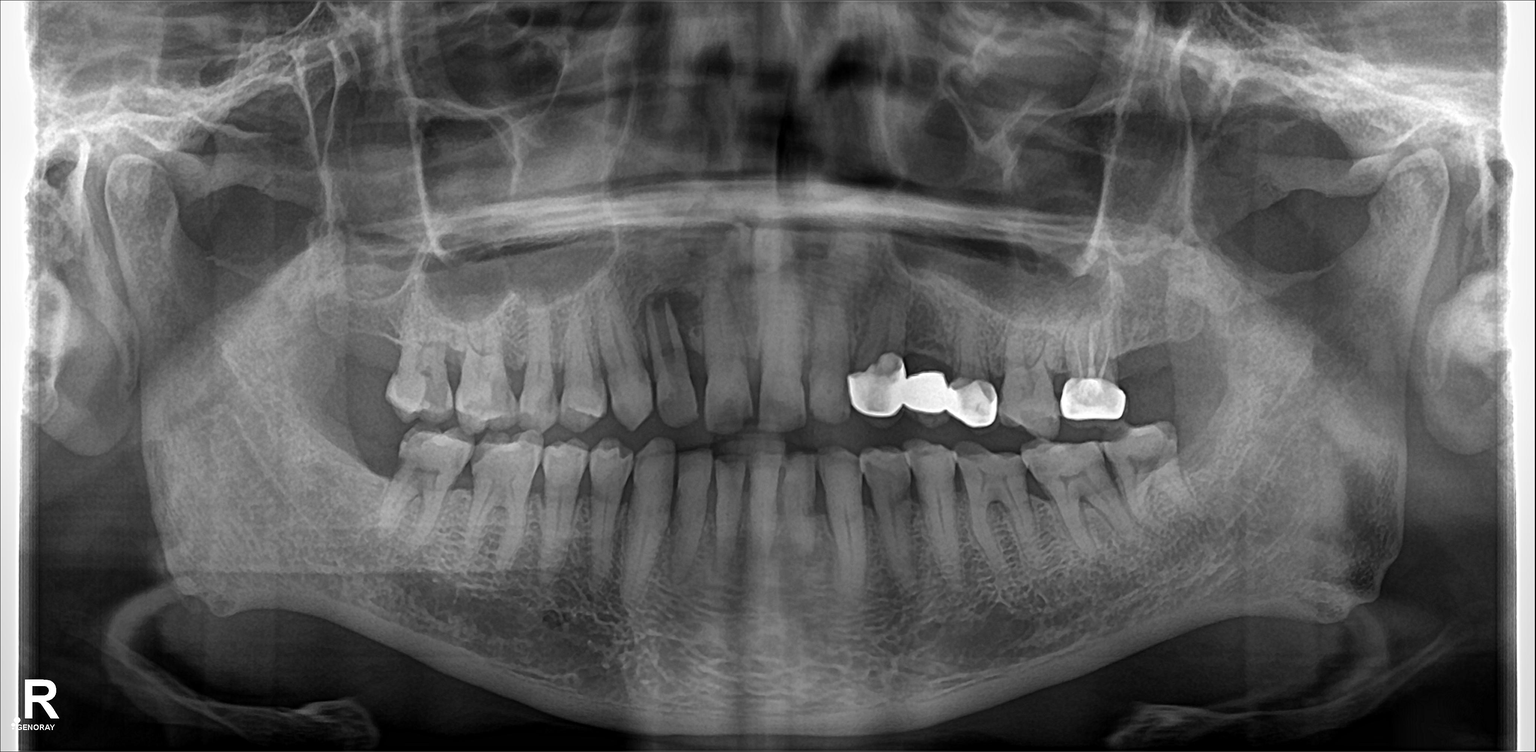Endodontically Treated Tooth: (1061, 320, 1125, 417), (859, 292, 909, 411), (942, 315, 997, 423), (905, 307, 949, 420)
Missing Tooth: (1132, 300, 1198, 413), (335, 294, 395, 398), (346, 426, 399, 503)
